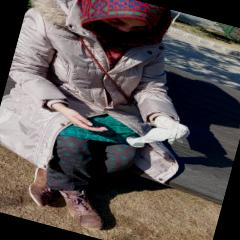gloved: (149, 114, 190, 146)
not-gloved: (50, 103, 108, 134)
